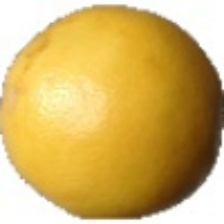grapes: (6, 60, 174, 205)
